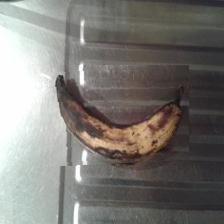Banana Rotten: (41, 66, 189, 168)
